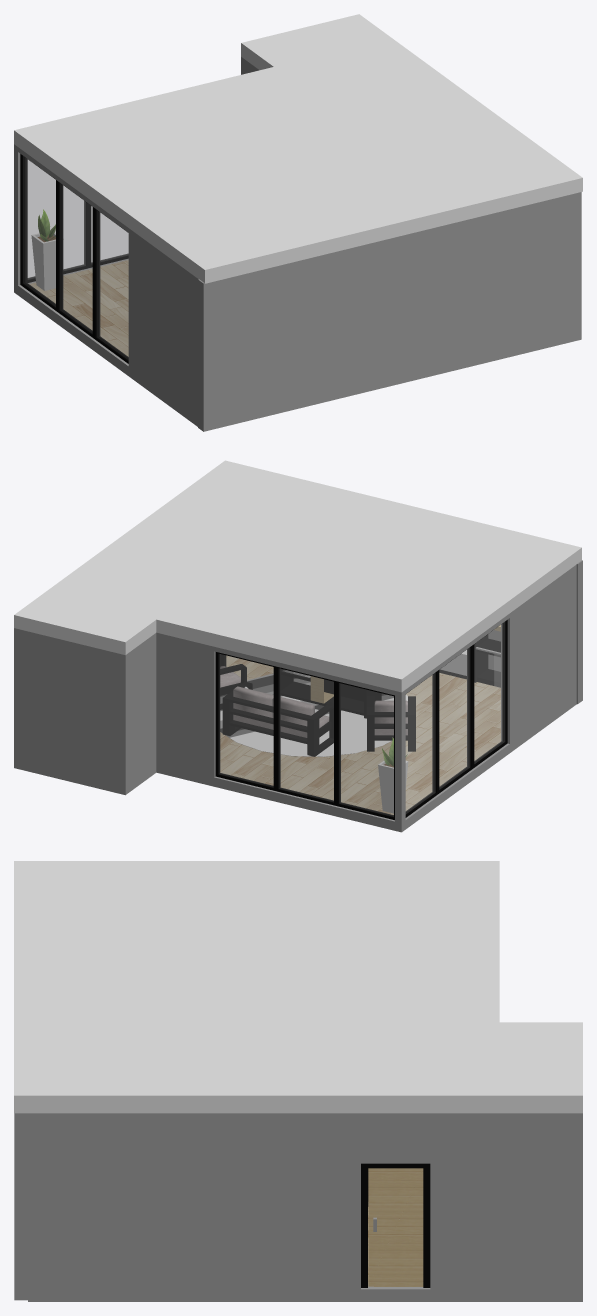
Rendered from room.glb.
The picture shows the model from 3 angles, top to bottom: view 1: azimuth 30°, elevation 25°; view 2: azimuth 150°, elevation 25°; view 3: azimuth 270°, elevation 25°; orthographic projection. The views are drawn at different scales.
Visible parts, largest first — view 1: Ceil, object 30, object 21, object 170, object 172, object 174, object 31, object 176, object 171, object 23, object 175, object 183 (+5 smaller); view 2: Ceil, object 28, object 31, object 21, object 27, object 176, object 181, object 178, object 29, object 174, object 172, object 170 (+18 smaller); view 3: Ceil, object 17, object 19, object 2, object 18, object 28, object 30, object 1, object 20.
Part boxes in pixels (left/top/right/bottom): Ceil: left=14, top=14, right=582, bottom=283; object 30: left=198, top=192, right=581, bottom=431; object 21: left=128, top=228, right=198, bottom=426; object 170: left=23, top=156, right=55, bottom=306; object 172: left=60, top=183, right=92, bottom=332; object 174: left=97, top=211, right=128, bottom=358; object 31: left=29, top=260, right=128, bottom=356; object 176: left=28, top=160, right=84, bottom=278; object 171: left=20, top=154, right=61, bottom=311; object 23: left=18, top=285, right=128, bottom=375; object 175: left=94, top=208, right=128, bottom=363; object 183: left=31, top=233, right=63, bottom=290; Ceil: left=14, top=460, right=581, bottom=692; object 28: left=14, top=628, right=130, bottom=795; object 31: left=220, top=655, right=500, bottom=814; object 21: left=501, top=564, right=576, bottom=752; object 27: left=156, top=632, right=215, bottom=786; object 176: left=339, top=683, right=393, bottom=816; object 181: left=219, top=654, right=273, bottom=786; object 178: left=279, top=669, right=333, bottom=801; object 29: left=130, top=633, right=156, bottom=790; object 174: left=474, top=622, right=504, bottom=762; object 172: left=439, top=648, right=469, bottom=788; object 170: left=406, top=674, right=434, bottom=813; Ceil: left=14, top=861, right=582, bottom=1113; object 17: left=28, top=1113, right=360, bottom=1301; object 19: left=430, top=1113, right=568, bottom=1301; object 2: left=368, top=1168, right=423, bottom=1286; object 18: left=361, top=1113, right=430, bottom=1163; object 28: left=569, top=1113, right=582, bottom=1301; object 30: left=14, top=1113, right=27, bottom=1300; object 1: left=361, top=1163, right=430, bottom=1287; object 20: left=361, top=1283, right=430, bottom=1301.
Bounding box in the file's own units: 8.06 × 3.29 × 8.24.
23 materials, 15 textured.
